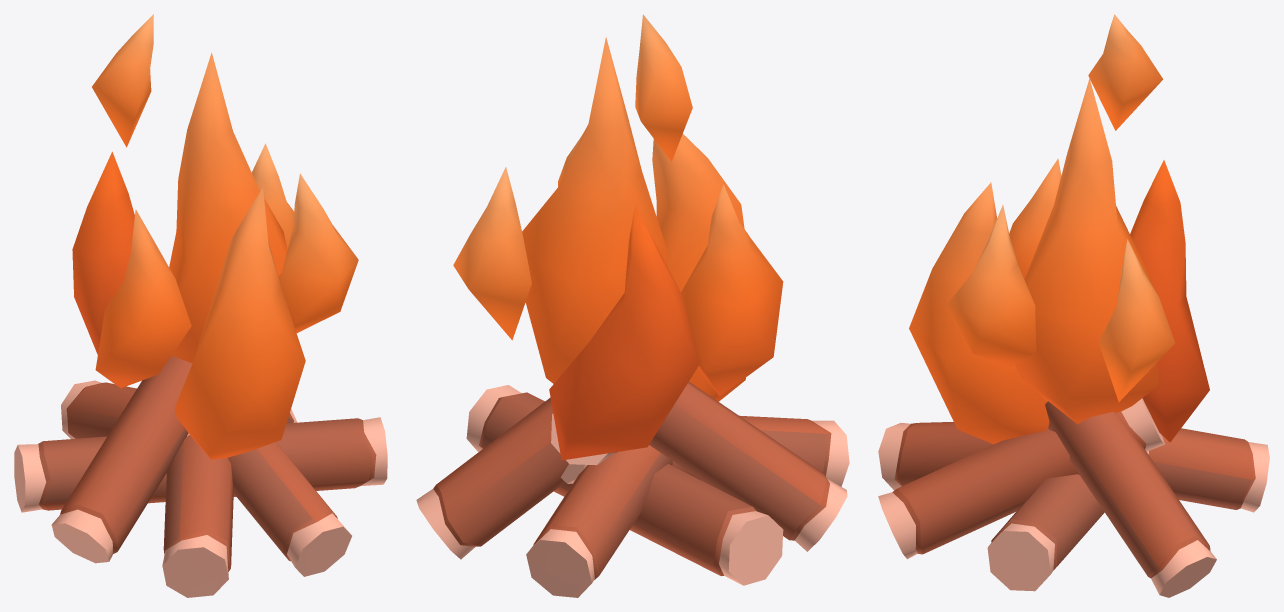
File: bonfire_001.glb
3 renders of one model, left to right at view 1: azimuth 30°, elevation 25°; view 2: azimuth 150°, elevation 25°; view 3: azimuth 270°, elevation 25°, orthographic. The views are drawn at different scales.
Parts seen in each view (by area): view 1: bonfire_001; view 2: bonfire_001; view 3: bonfire_001.
Part boxes in pixels (<box>): bonfire_001: <box>14,14,387,597</box>; bonfire_001: <box>416,14,849,597</box>; bonfire_001: <box>878,14,1269,597</box>.
Bounding box in the file's own units: 1.91 × 2.78 × 1.92.
Materials: 2 (2 with a texture image).
